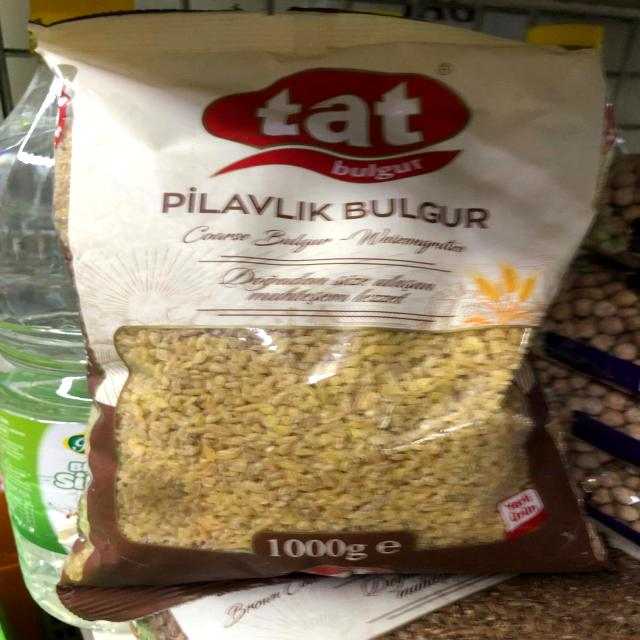bulgur: (40, 48, 600, 595)
